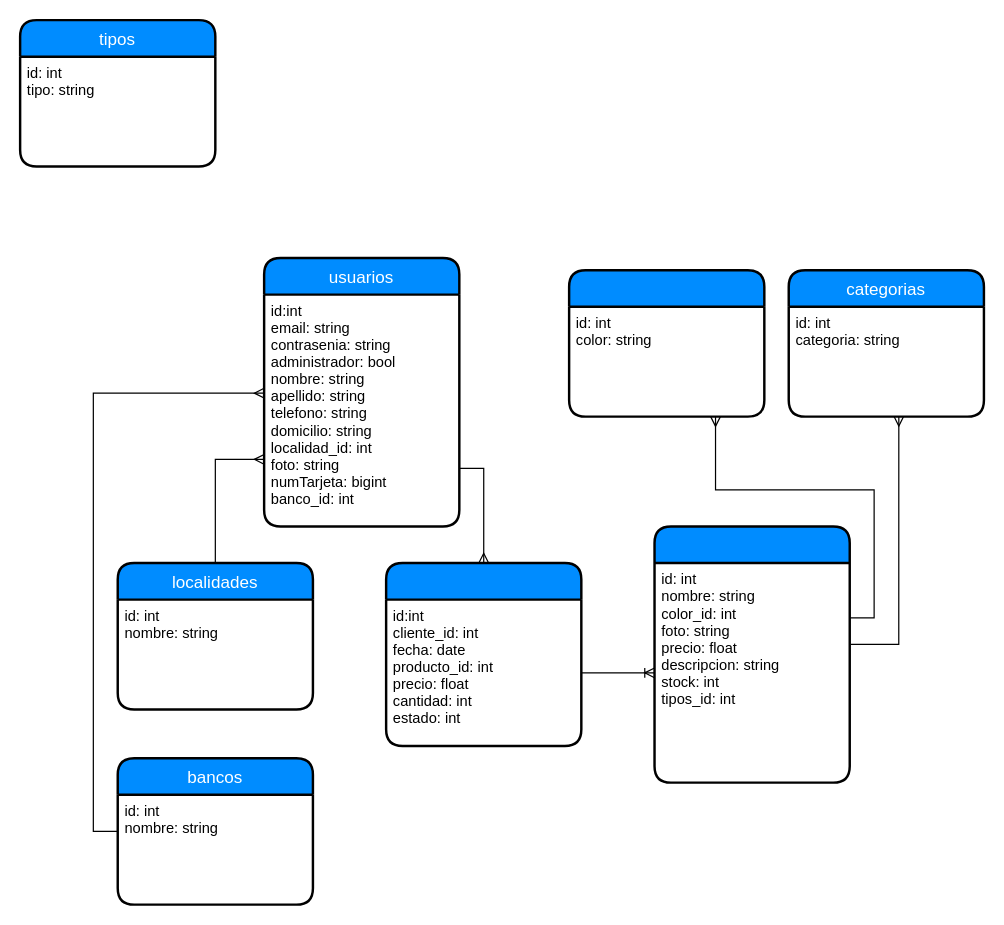
Image size: 1004x925. Some labels were removed from this diagram. Here are the shapes that lost their labels. From the top down, the box of each, then its label:
(567, 268, 765, 417): colores
(384, 561, 582, 747): carrito
(653, 525, 850, 783): productos
